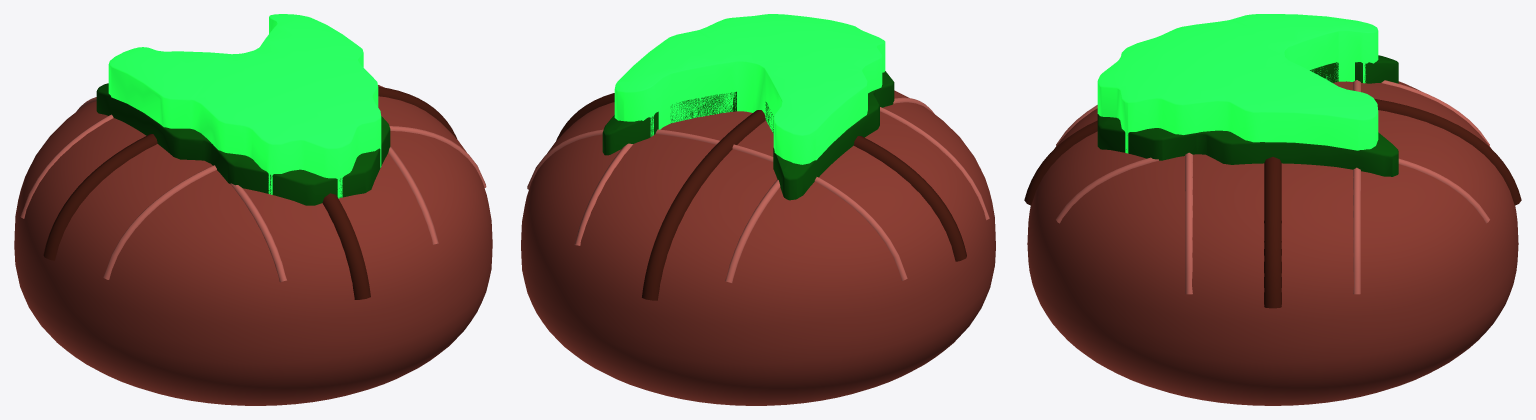
Rendered from pu_sonic_wave.glb.
The picture shows the model from 3 angles, left to right: view 1: azimuth 30°, elevation 25°; view 2: azimuth 150°, elevation 25°; view 3: azimuth 270°, elevation 25°; orthographic projection.
Visible parts, largest first — view 1: orb, chevron, chevron_base, orb_groove_4, orb_seam_4; view 2: orb, chevron, orb_groove_4, chevron_base, orb_seam_4; view 3: orb, chevron, chevron_base, orb_groove_4, orb_seam_4.
Boxes of the visible parts, bbox=[...] form: orb: bbox=[14, 85, 492, 405]; chevron: bbox=[108, 14, 381, 198]; chevron_base: bbox=[96, 83, 390, 205]; orb_groove_4: bbox=[43, 86, 456, 299]; orb_seam_4: bbox=[20, 97, 486, 282]; orb: bbox=[521, 90, 995, 405]; chevron: bbox=[614, 14, 885, 164]; orb_groove_4: bbox=[556, 93, 966, 300]; chevron_base: bbox=[602, 71, 894, 200]; orb_seam_4: bbox=[527, 97, 989, 282]; orb: bbox=[1027, 81, 1518, 405]; chevron: bbox=[1097, 14, 1378, 153]; chevron_base: bbox=[1097, 55, 1398, 176]; orb_groove_4: bbox=[1024, 99, 1521, 308]; orb_seam_4: bbox=[1056, 80, 1489, 294].
Size of the model in its own units: 20.88 by 14.28 by 21.27.
